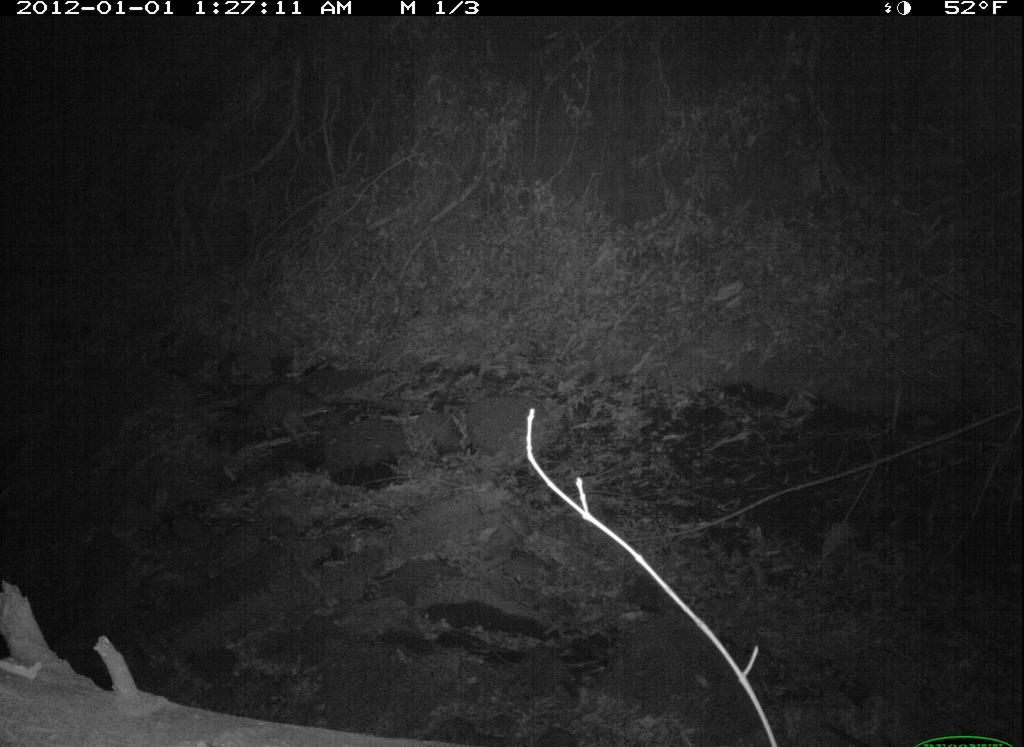raccoon: (220, 371, 352, 455)
